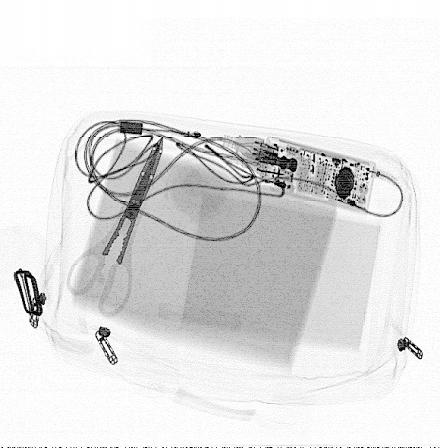Scissors: (65, 133, 164, 320)
